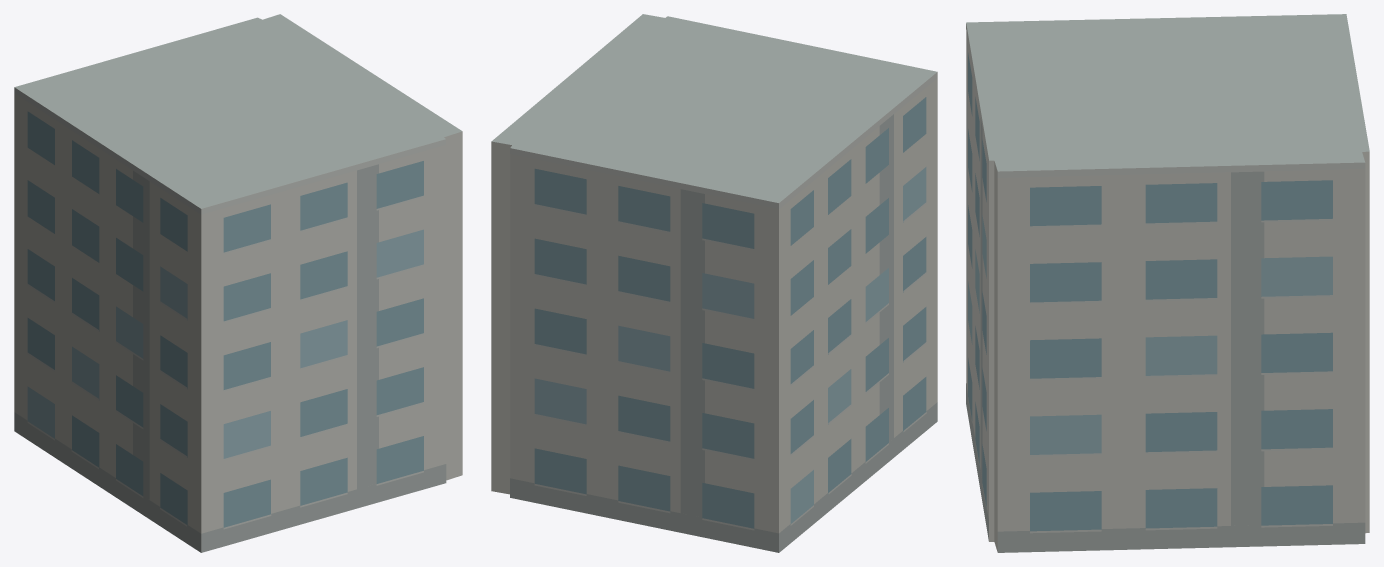
The model's file is survey-upis-33040644.glb.
The picture shows the model from 3 angles, left to right: view 1: azimuth 30°, elevation 25°; view 2: azimuth 150°, elevation 25°; view 3: azimuth 270°, elevation 25°; orthographic projection. The views are drawn at different scales.
Visible parts, largest first — view 1: survey-upis-33040644.tmp; view 2: survey-upis-33040644.tmp; view 3: survey-upis-33040644.tmp.
Part boxes in pixels (bbox=[...]): survey-upis-33040644.tmp: bbox=[14, 14, 462, 552]; survey-upis-33040644.tmp: bbox=[491, 14, 937, 552]; survey-upis-33040644.tmp: bbox=[966, 14, 1369, 552].
Bounding box in the file's own units: 12.59 × 14.2 × 13.63.
